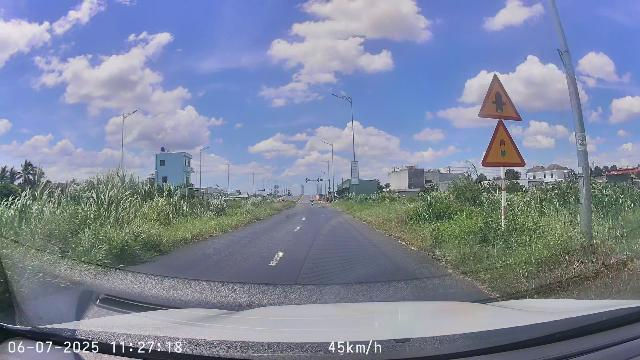207-giao-nhau-voi-duong-khong-uu-tien: (478, 73, 522, 120)
209-giao-nhau-co-tin-hieu-den: (481, 120, 525, 168)
